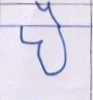ai_matra: (35, 2, 63, 24)
